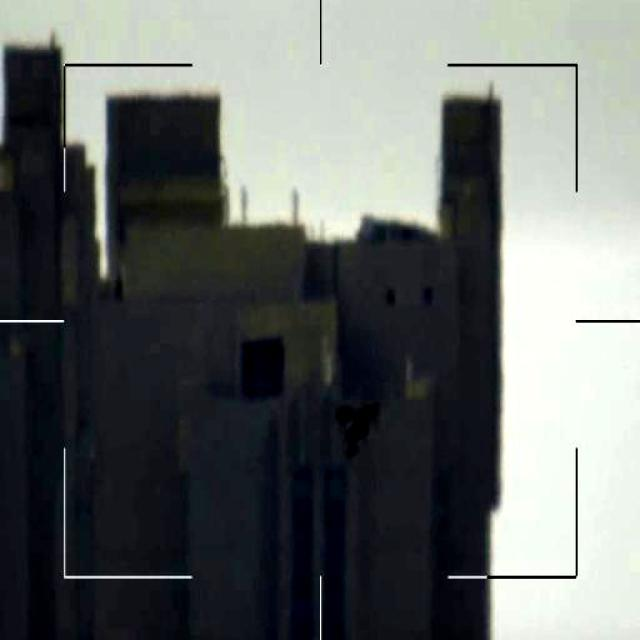bird: (338, 391, 394, 456)
